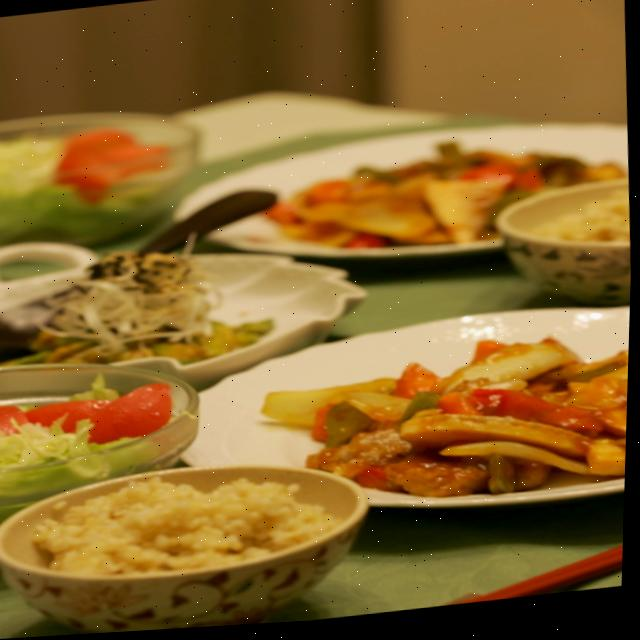猪肉菜式: (257, 316, 632, 558)
米饭主食: (0, 458, 372, 614)
蔬菜料理: (0, 334, 202, 484)
